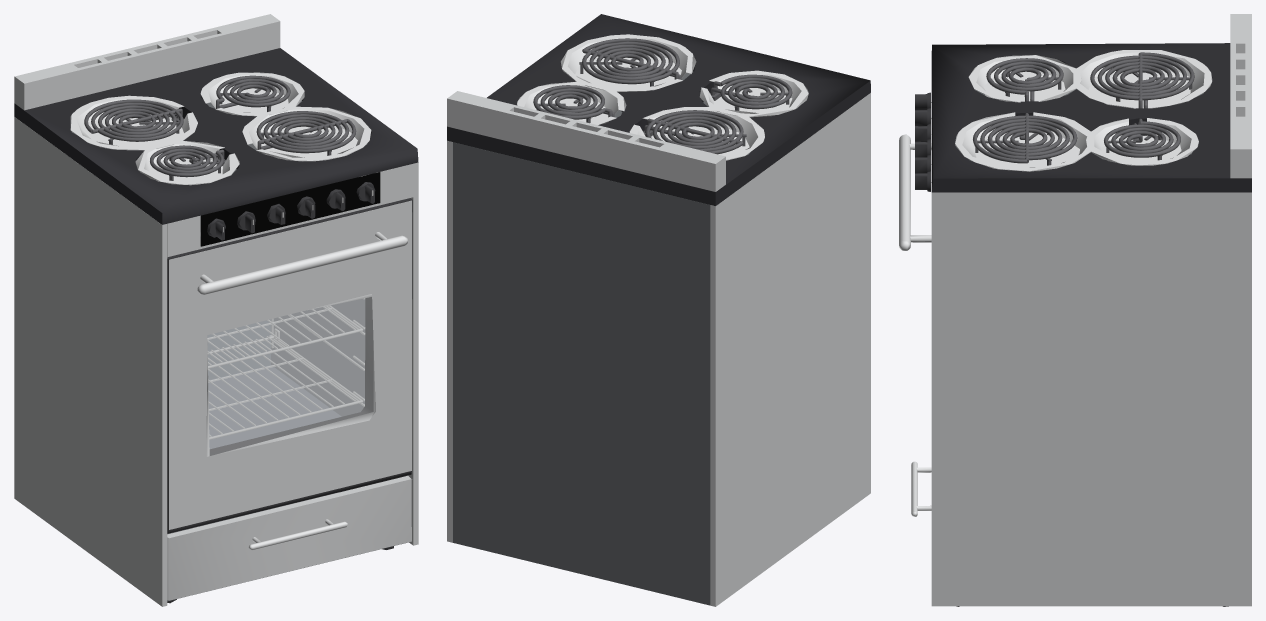
The model's file is range_oven.glb.
3 renders of one model, left to right at view 1: azimuth 30°, elevation 25°; view 2: azimuth 150°, elevation 25°; view 3: azimuth 270°, elevation 25°, orthographic. The views are drawn at different scales.
Parts seen in each view (by area): view 1: body; view 2: body; view 3: body.
Boxes of the visible parts, left/top/right/bottom form: body: left=14, top=14, right=418, bottom=606; body: left=447, top=14, right=870, bottom=606; body: left=899, top=14, right=1251, bottom=606.
Size of the model in its own units: 0.6 by 0.96 by 0.661.
17 materials, 1 textured.
